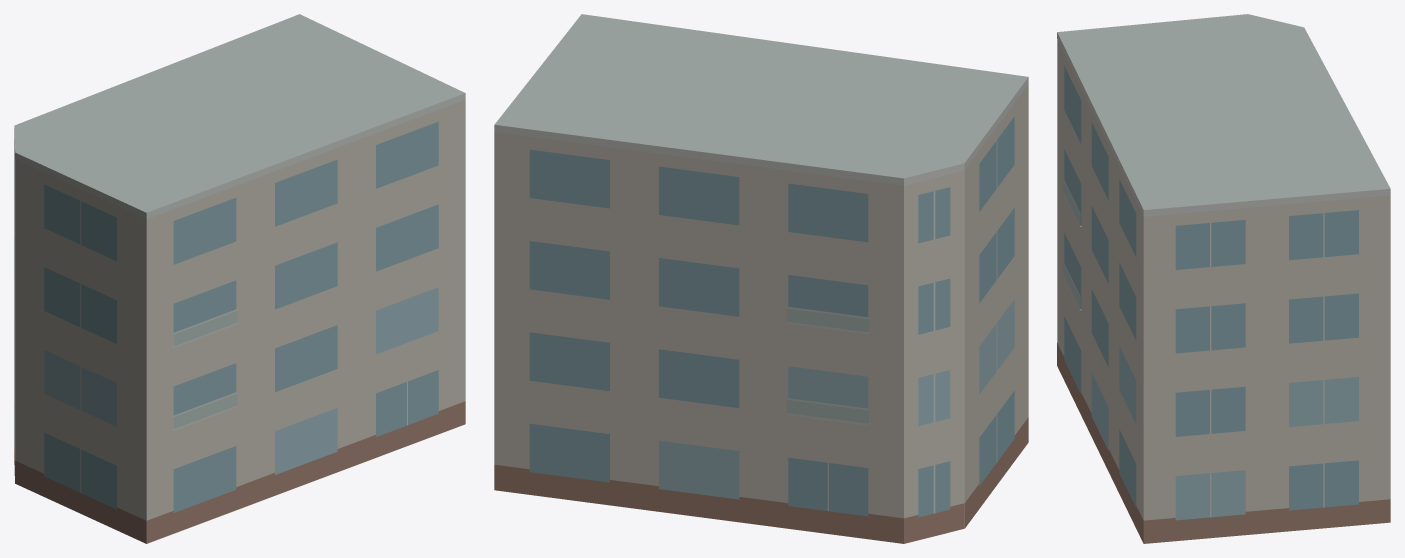
The model's file is survey-upis-32722768.glb.
3 views of the same model, side by side, from view 1: azimuth 30°, elevation 25°; view 2: azimuth 150°, elevation 25°; view 3: azimuth 270°, elevation 25° (orthographic). The views are drawn at different scales.
Visible parts, largest first — view 1: survey-upis-32722768.tmp; view 2: survey-upis-32722768.tmp; view 3: survey-upis-32722768.tmp.
Boxes of the visible parts, x1,y1,x2,y2 form: survey-upis-32722768.tmp: (14, 14, 465, 543); survey-upis-32722768.tmp: (494, 14, 1028, 543); survey-upis-32722768.tmp: (1057, 14, 1390, 543).
Size of the model in its own units: 15.58 by 12.35 by 11.2.
